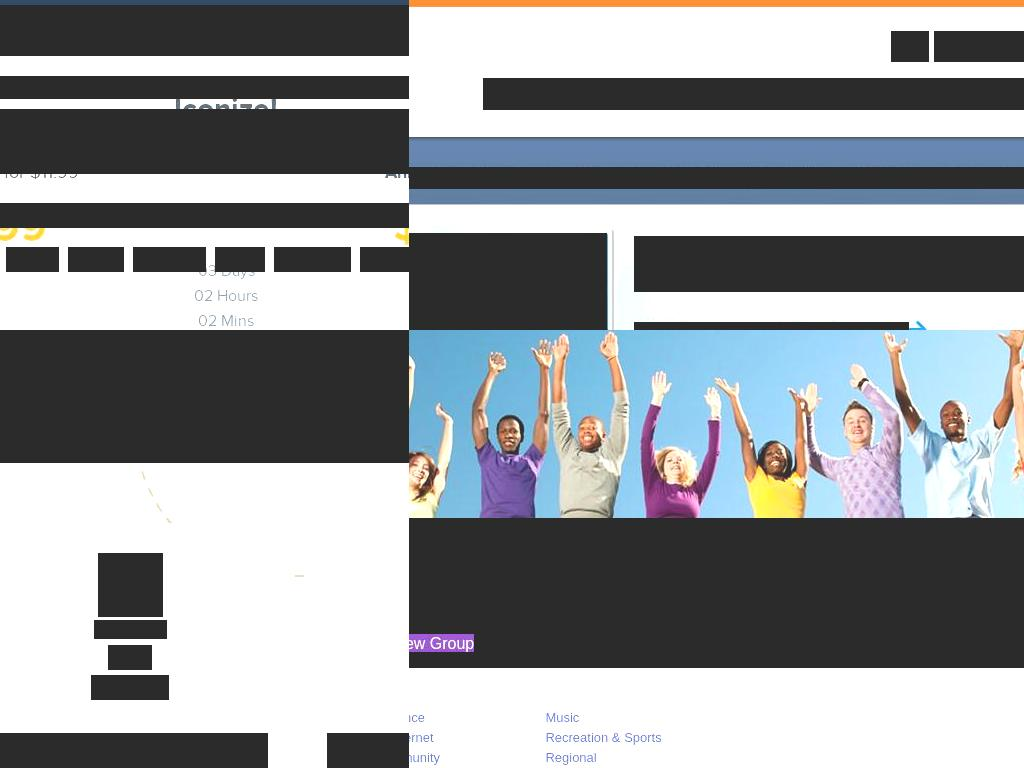button: (716, 78, 864, 110), (592, 78, 716, 110), (483, 78, 592, 110), (864, 78, 955, 110), (934, 31, 1024, 62), (955, 78, 1024, 110), (274, 247, 351, 272), (133, 247, 206, 272), (68, 247, 124, 272), (6, 247, 59, 272), (215, 247, 265, 272), (360, 247, 409, 272), (891, 31, 929, 62), (409, 634, 474, 652)
field: (0, 109, 409, 174)
heading: (634, 236, 1024, 292), (409, 167, 1024, 189), (0, 330, 409, 353), (64, 76, 409, 99), (409, 540, 519, 576), (634, 322, 909, 330), (91, 675, 169, 700), (0, 76, 65, 99), (108, 645, 152, 670)
image: (409, 518, 1024, 668), (409, 233, 607, 330), (98, 553, 163, 617)
link: (545, 729, 663, 745), (669, 581, 730, 598), (638, 644, 692, 660), (545, 749, 598, 765), (545, 709, 580, 725), (409, 749, 440, 765), (409, 729, 434, 745)
text: (0, 353, 409, 463), (0, 203, 409, 228), (0, 733, 268, 768), (102, 5, 270, 56), (270, 5, 409, 56), (518, 625, 703, 660), (0, 5, 102, 56), (409, 581, 582, 598), (327, 733, 409, 768), (586, 581, 671, 598), (94, 620, 167, 639), (409, 634, 474, 652)
